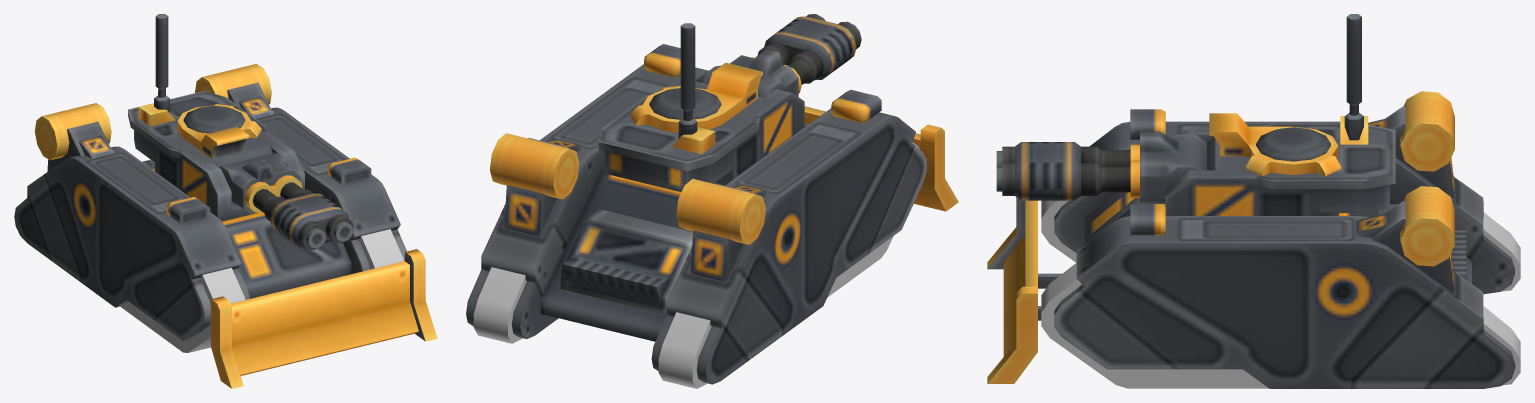
The model's file is Blaster.FBX.
3 views of the same model, side by side, from view 1: azimuth 30°, elevation 25°; view 2: azimuth 150°, elevation 25°; view 3: azimuth 270°, elevation 25° (orthographic). The views are drawn at different scales.
Visible parts, largest first — view 1: Blaster, Blaster_Gun, Blaster_Tracks; view 2: Blaster, Blaster_Tracks, Blaster_Gun; view 3: Blaster, Blaster_Tracks, Blaster_Gun.
Boxes of the visible parts, x1,y1,x2,y2 form: Blaster: [14, 14, 437, 388]; Blaster_Gun: [253, 182, 353, 249]; Blaster_Tracks: [120, 229, 403, 352]; Blaster: [466, 23, 958, 384]; Blaster_Tracks: [473, 142, 919, 388]; Blaster_Gun: [757, 14, 861, 84]; Blaster: [987, 14, 1515, 388]; Blaster_Tracks: [1041, 200, 1520, 388]; Blaster_Gun: [996, 142, 1130, 200].
Size of the model in its own units: 581 by 648 by 1031.
